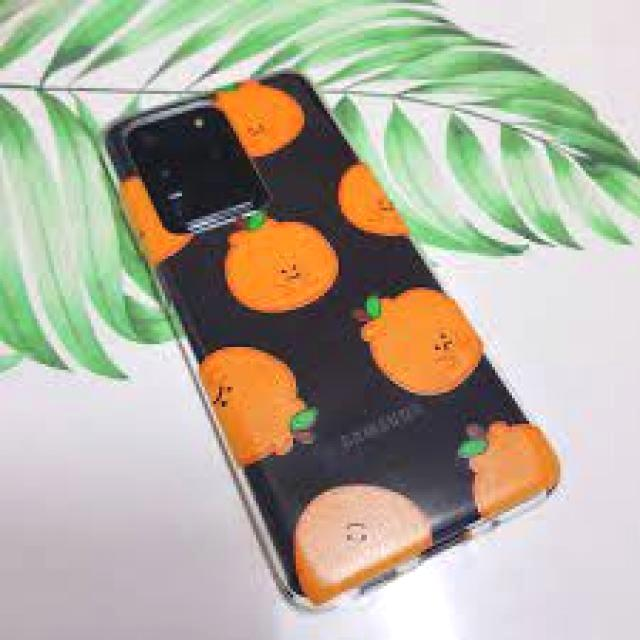lens: (130, 100, 273, 236)
phone: (105, 69, 561, 614)
